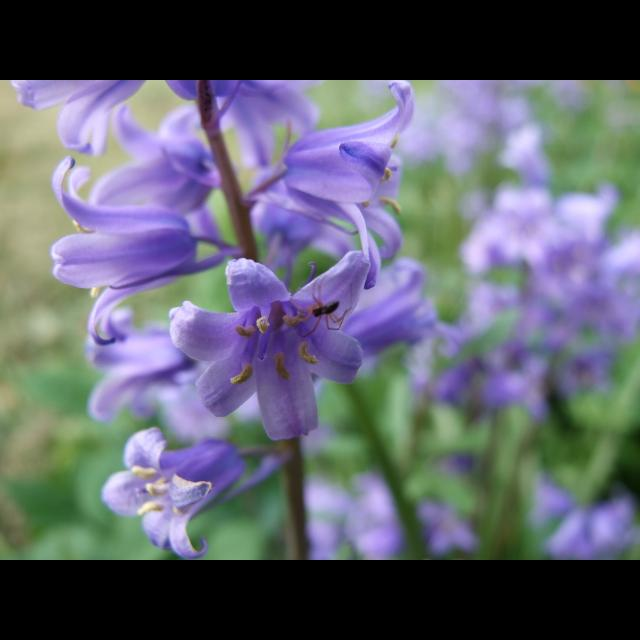Flower: (11, 80, 640, 558), (156, 240, 368, 444)
